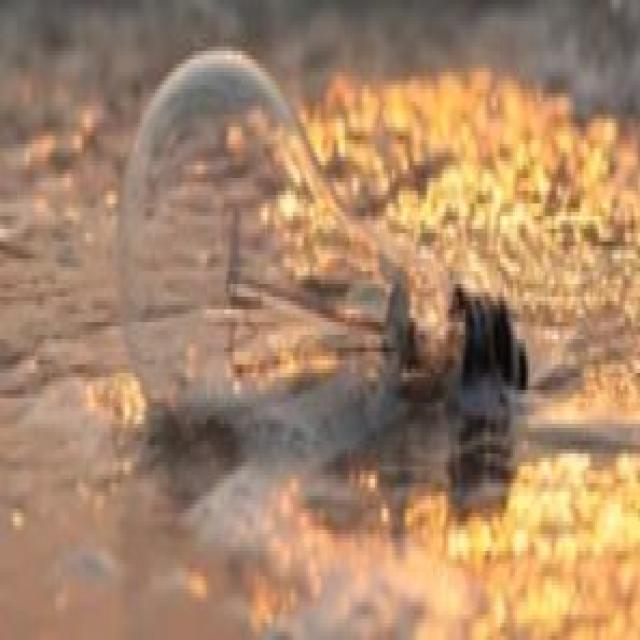electronic: (114, 42, 526, 416)
